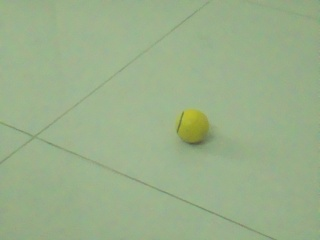ball: (175, 109, 208, 143)
